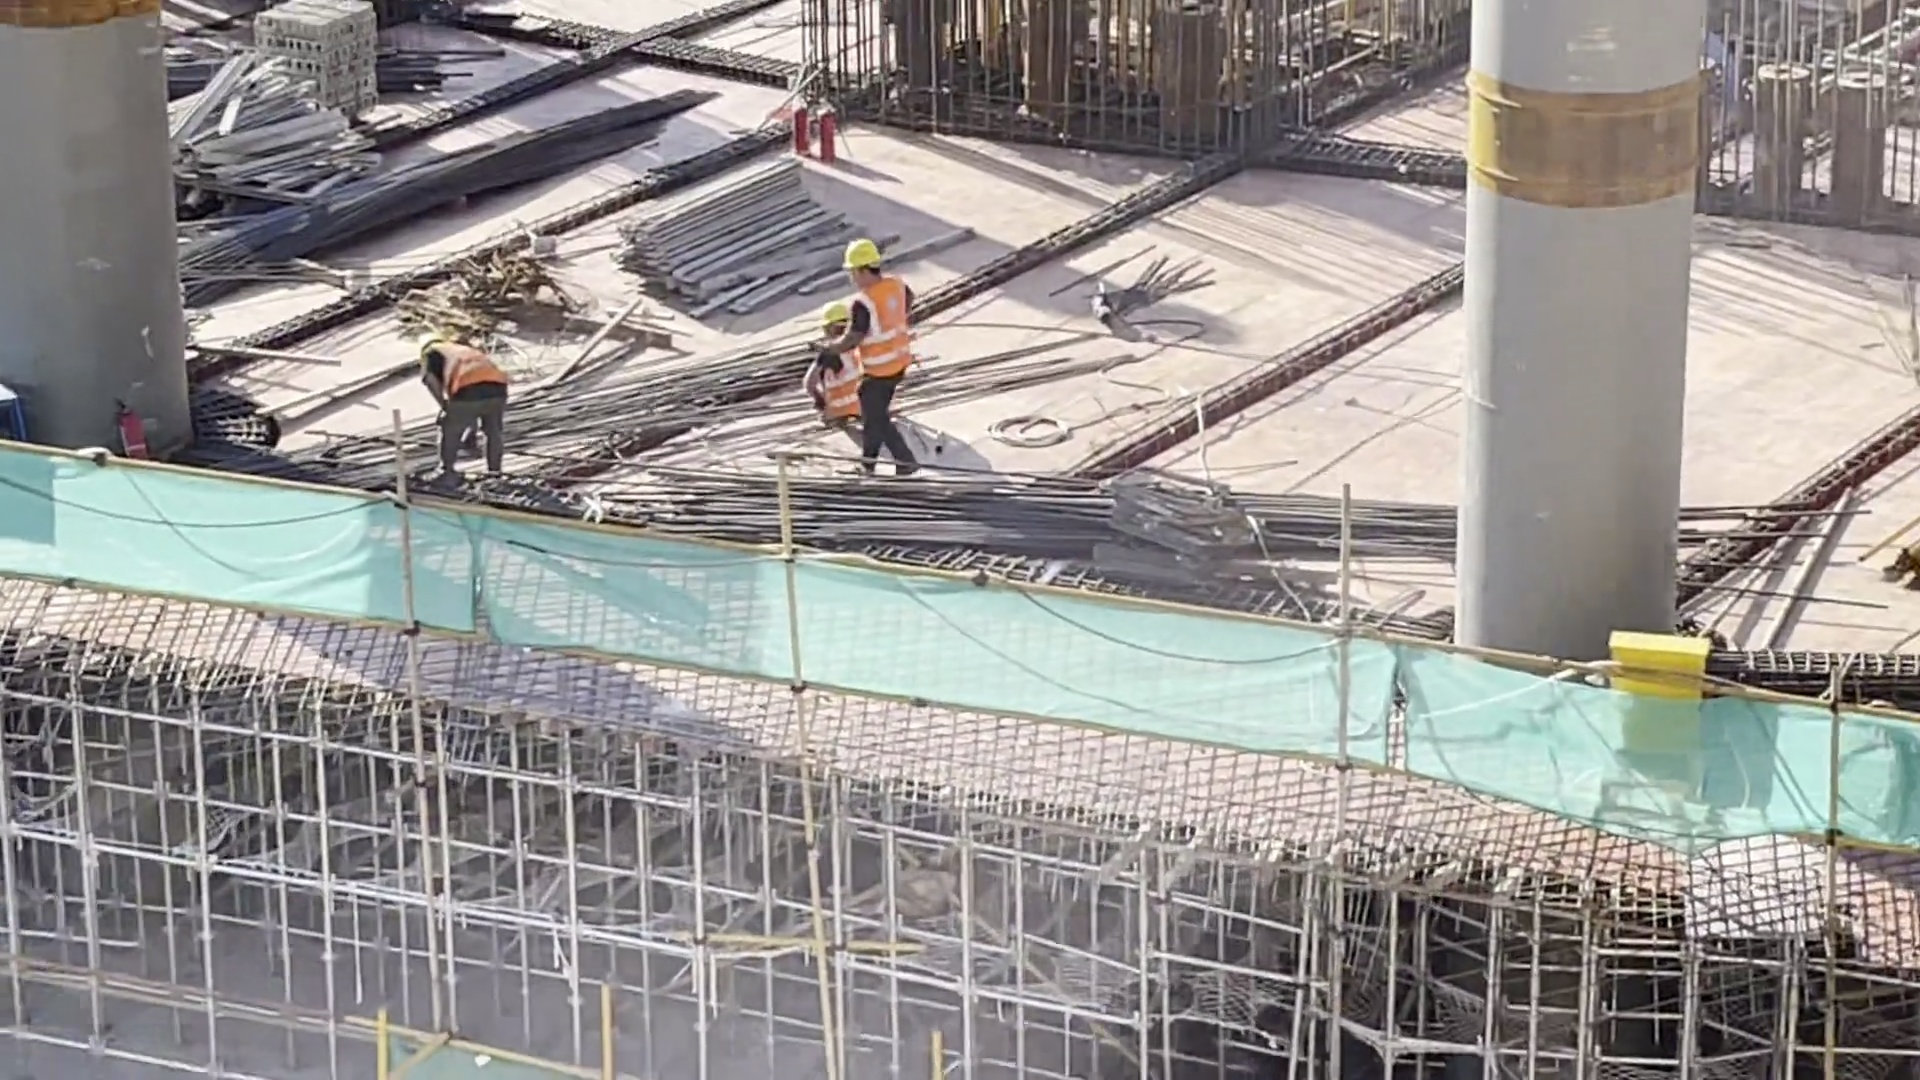helmet: (837, 235, 890, 279), (816, 302, 852, 322)
person: (828, 224, 933, 493), (400, 328, 518, 487), (803, 302, 863, 430)
vest: (853, 285, 913, 372), (419, 337, 501, 400), (811, 344, 863, 397)
